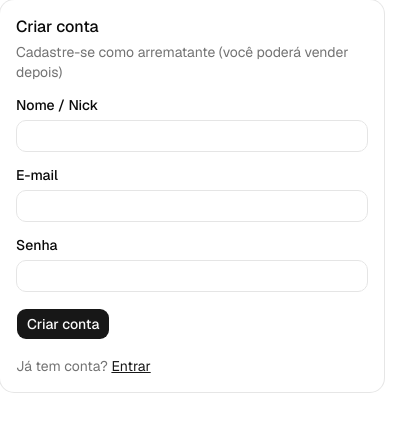
Test case: RegisterForm — erro de campo no DOM real › revela o erro do campo senha
The image size is (402, 438).
Type "1234567" into the password field labelled "Senha" at (192, 276), box x1=16 y1=260 x2=368 y2=292
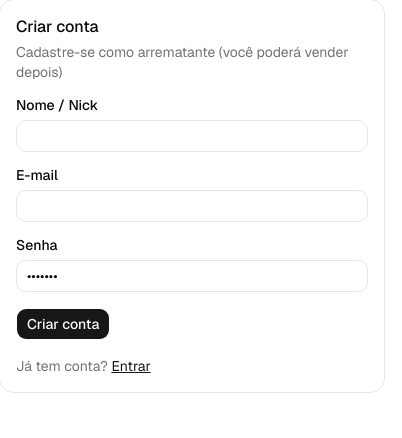
Leave the password field labelled "Senha", box x1=16 y1=260 x2=368 y2=292
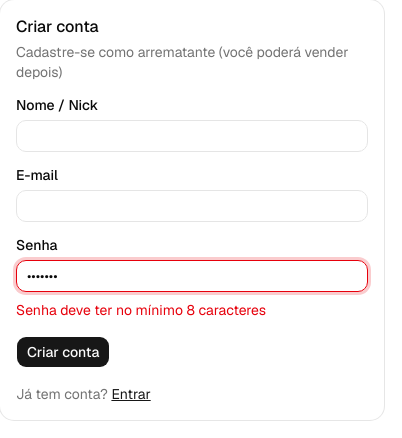
Result: the message "Senha deve ter no mínimo 8 caracteres" is shown at x1=16 y1=301 x2=266 y2=319
